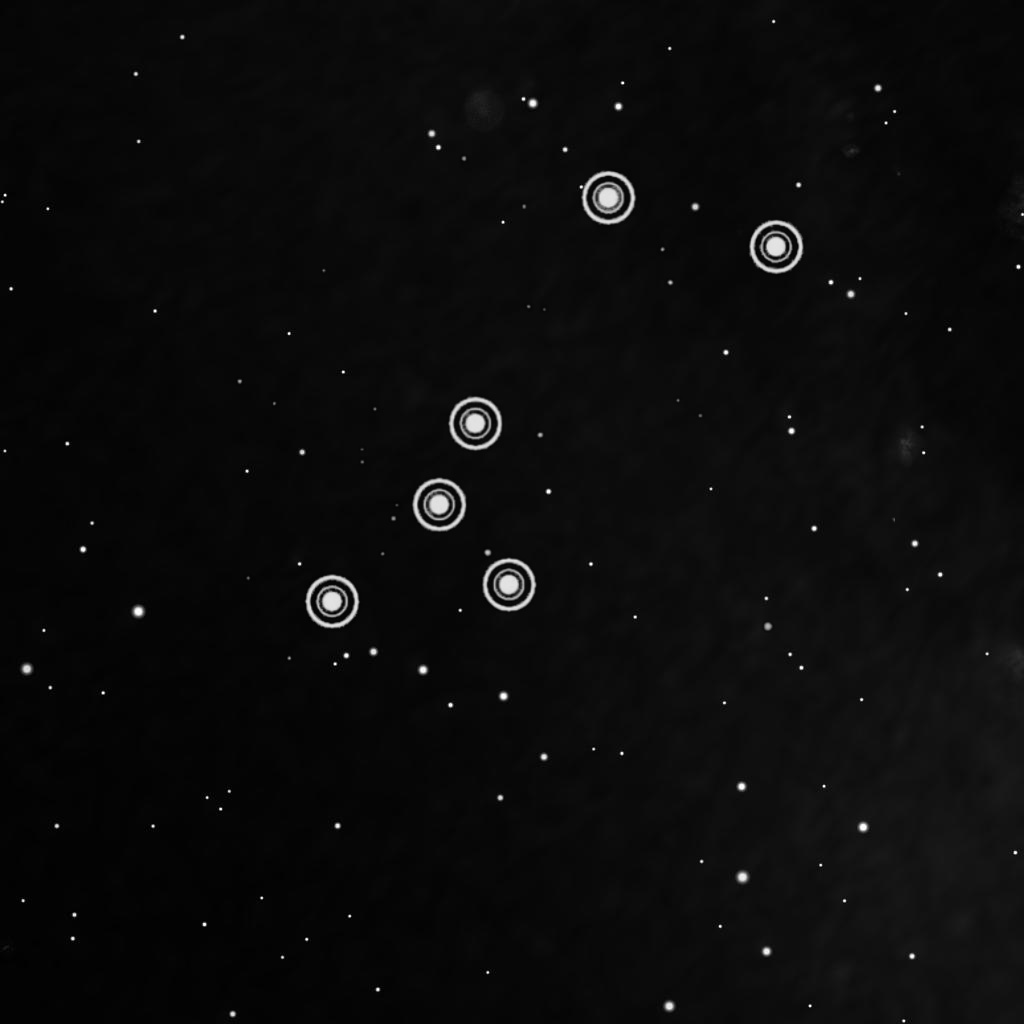canis_major: (296, 165, 814, 648)
